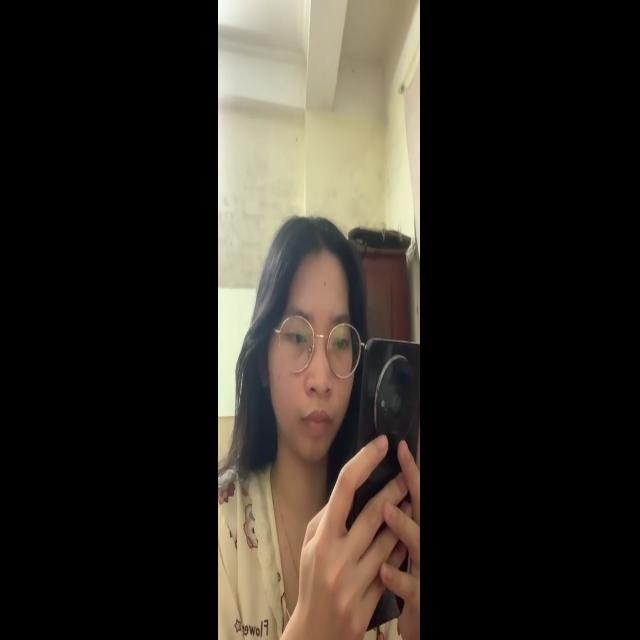phone: (352, 331, 416, 627)
student: (252, 207, 352, 478)
